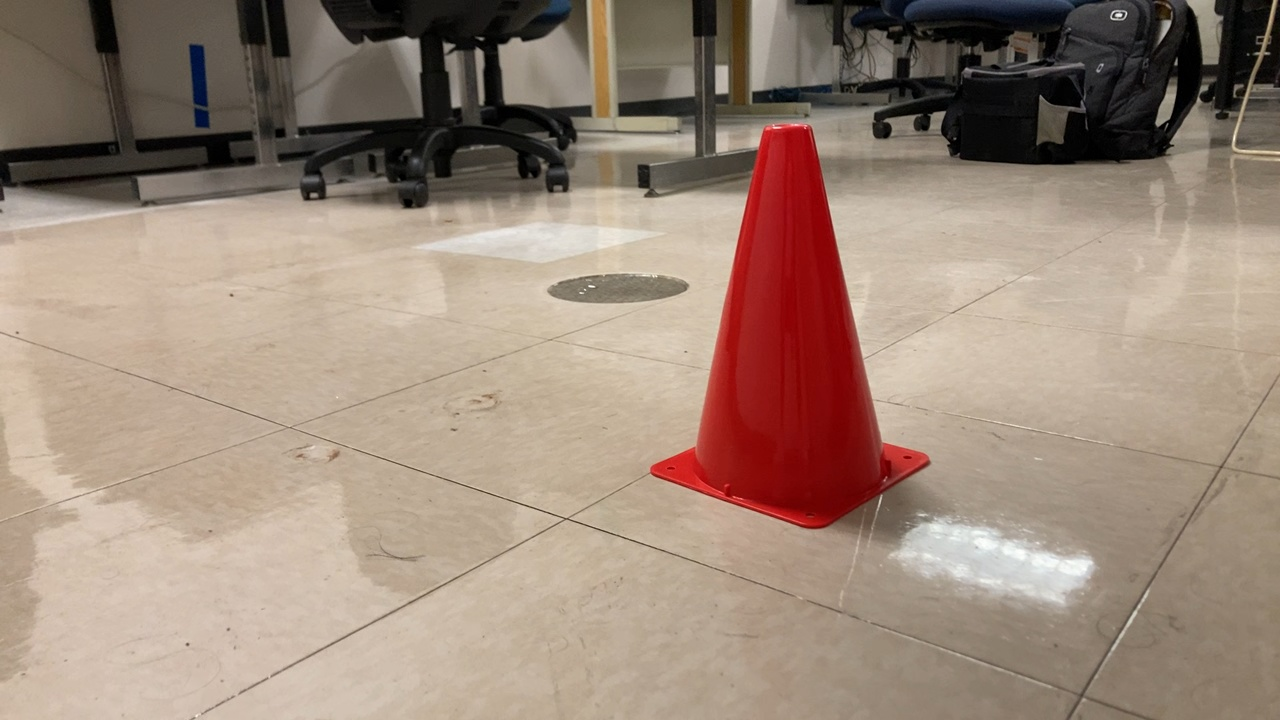red_cone: (634, 123, 943, 538)
